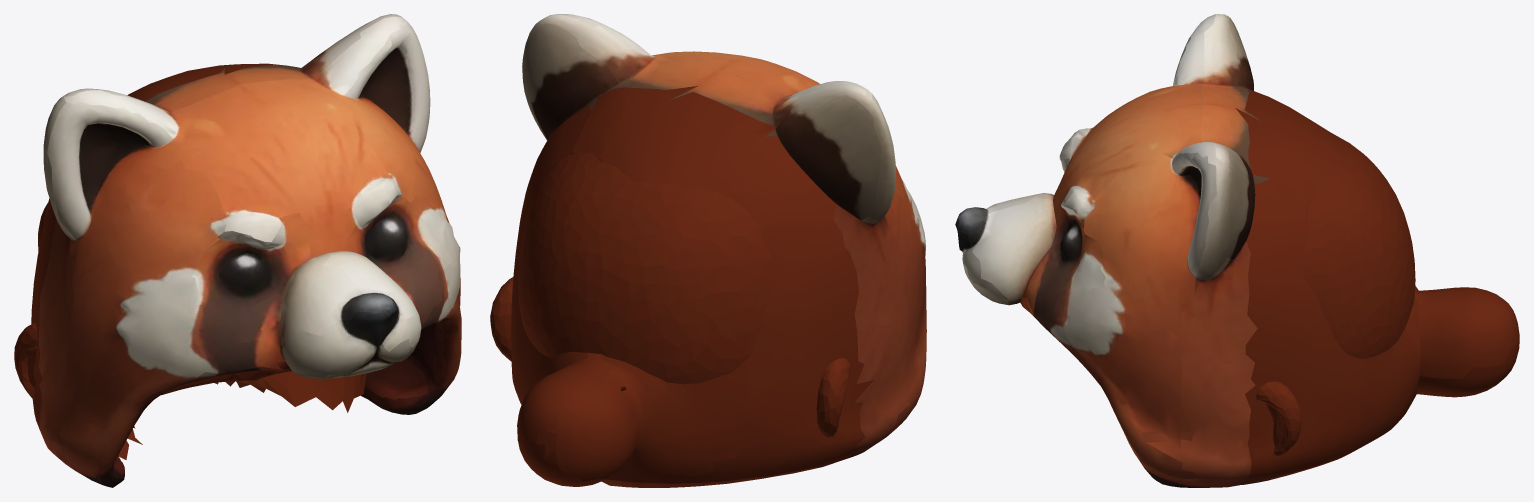
File: red-panda.glb
3 views of the same model, side by side, from view 1: azimuth 30°, elevation 25°; view 2: azimuth 150°, elevation 25°; view 3: azimuth 270°, elevation 25° (orthographic). The views are drawn at different scales.
Visible parts, largest first — view 1: geometry_0, HoodAnatomicalLining; view 2: geometry_0, HoodAnatomicalLining; view 3: geometry_0, HoodAnatomicalLining.
Boxes of the visible parts, x1,y1,x2,y2 form: geometry_0: [31, 14, 461, 487]; HoodAnatomicalLining: [14, 198, 366, 460]; geometry_0: [511, 14, 926, 487]; HoodAnatomicalLining: [490, 152, 850, 437]; geometry_0: [955, 14, 1519, 487]; HoodAnatomicalLining: [1256, 133, 1415, 455].
Size of the model in its own units: 0.4976 by 0.4839 by 0.7153.
2 materials, 1 textured.
